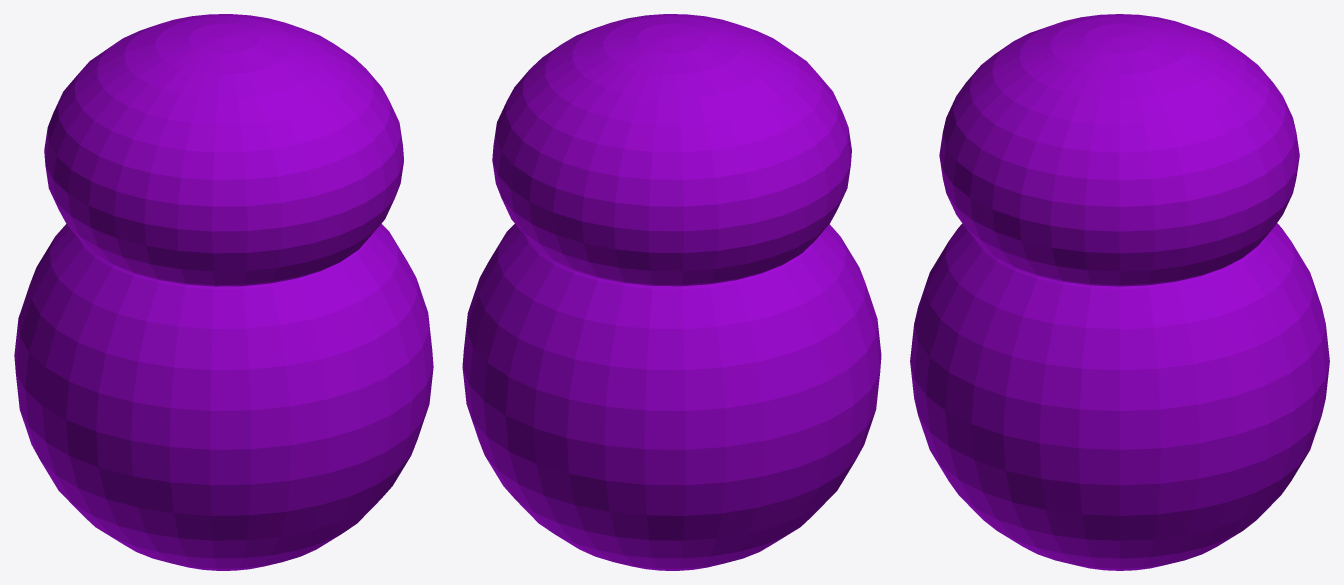
File: builder.fbx
The picture shows the model from 3 angles, left to right: view 1: azimuth 30°, elevation 25°; view 2: azimuth 150°, elevation 25°; view 3: azimuth 270°, elevation 25°; orthographic projection.
Parts seen in each view (by area): view 1: Sphere, Sphere.001; view 2: Sphere, Sphere.001; view 3: Sphere, Sphere.001.
Part boxes in pixels (x1,y1,x2,y2): Sphere: [14, 224, 433, 570]; Sphere.001: [44, 14, 403, 286]; Sphere: [462, 224, 881, 570]; Sphere.001: [492, 14, 851, 286]; Sphere: [910, 223, 1329, 570]; Sphere.001: [939, 14, 1299, 286].
Bounding box in the file's own units: 200 × 271 × 200.
